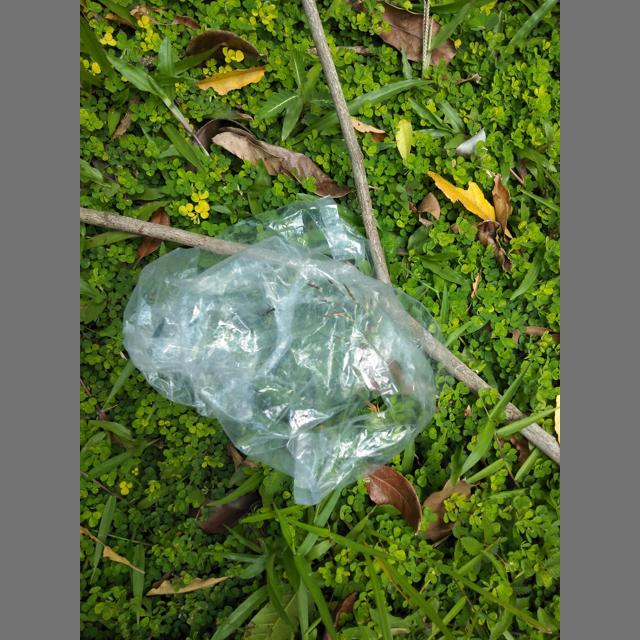litter: (122, 194, 454, 506)
